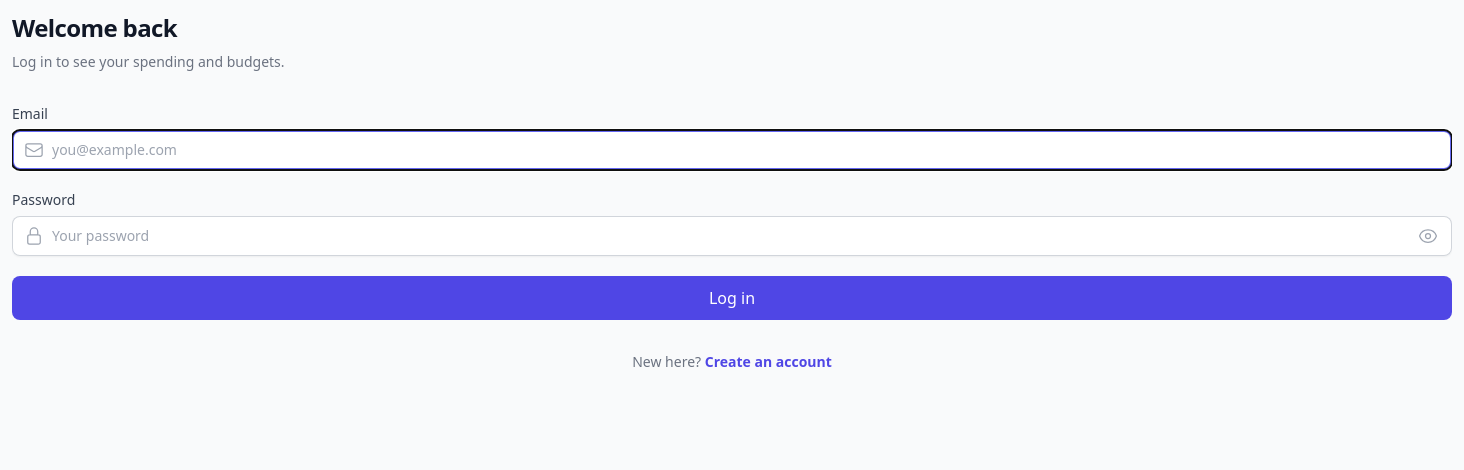
Test: shows the server error message
The width and height of the screenshot is (1464, 470).
Type "a@example.com" into the field labelled "Email".
click(732, 150); type("a@example.com")  # box [12,130,1452,170]
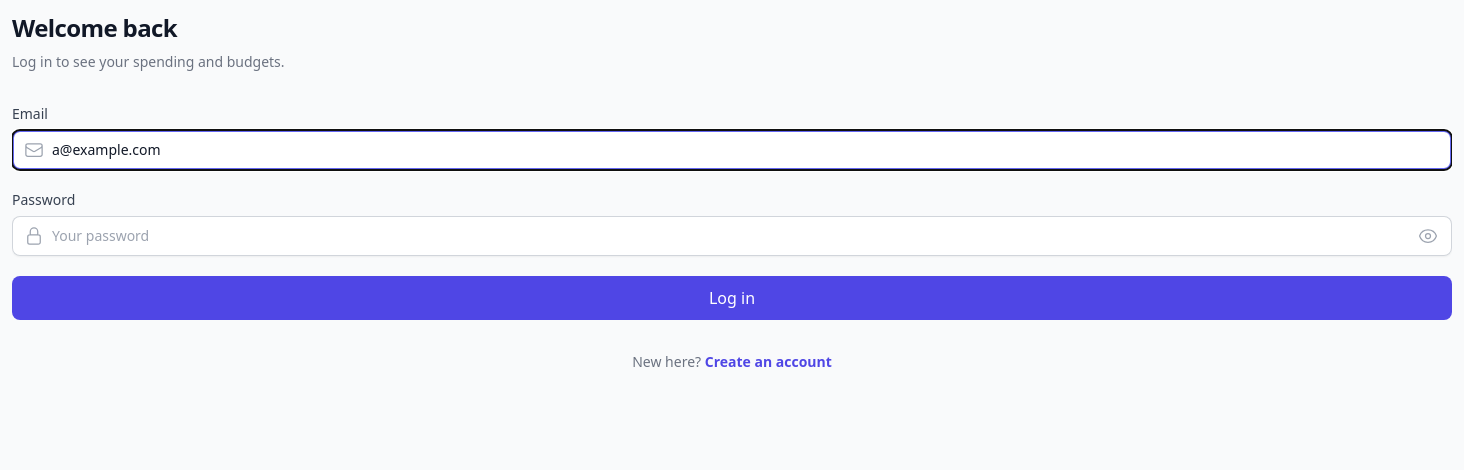
Type "wrong123" into the password field labelled "Password".
click(732, 236); type("wrong123")  # box [12,216,1452,256]
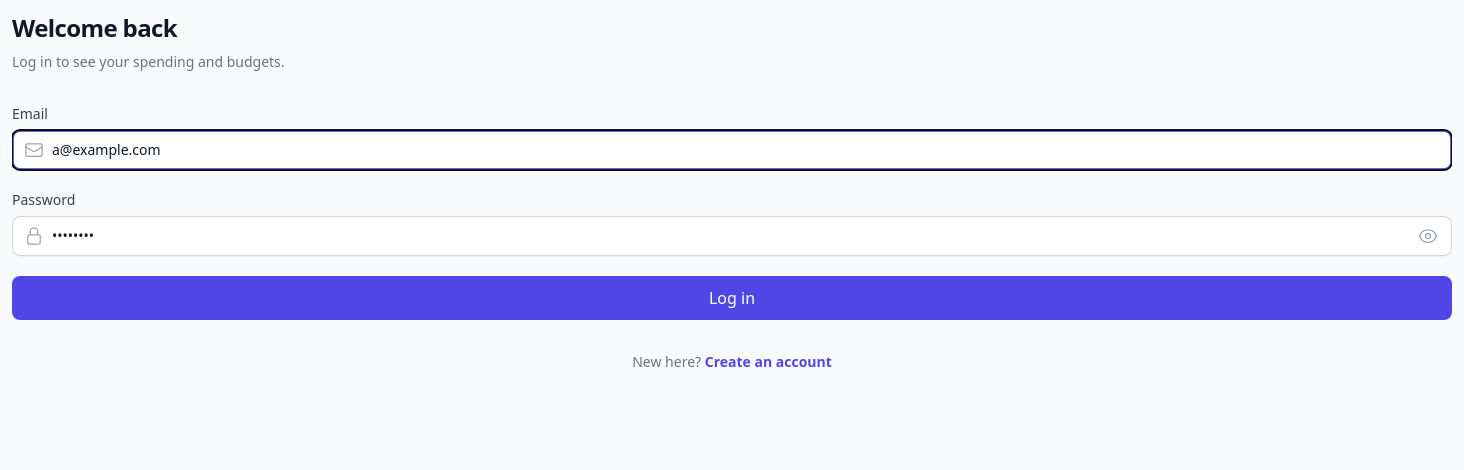
Click the button "Log in".
click(732, 298)  # box [12,276,1452,320]
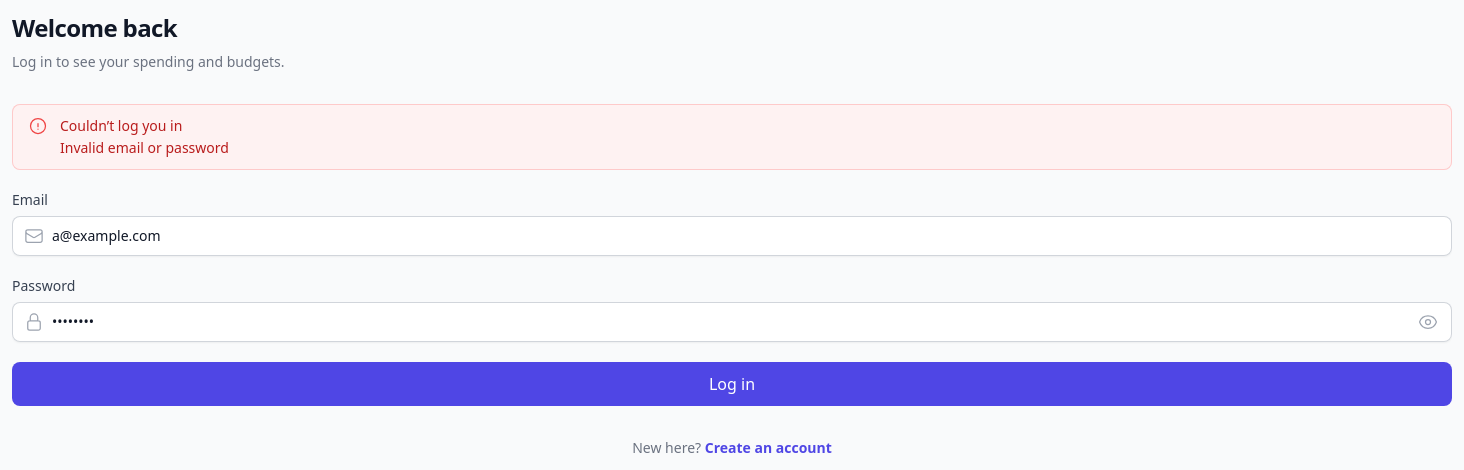
Now the message shows "Invalid email or password", box [60,138,229,157]
